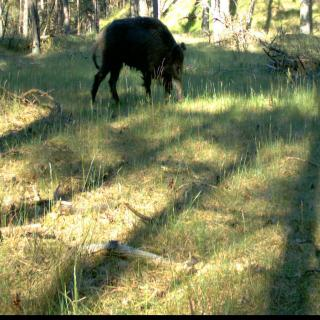Pig: (74, 15, 222, 101)
